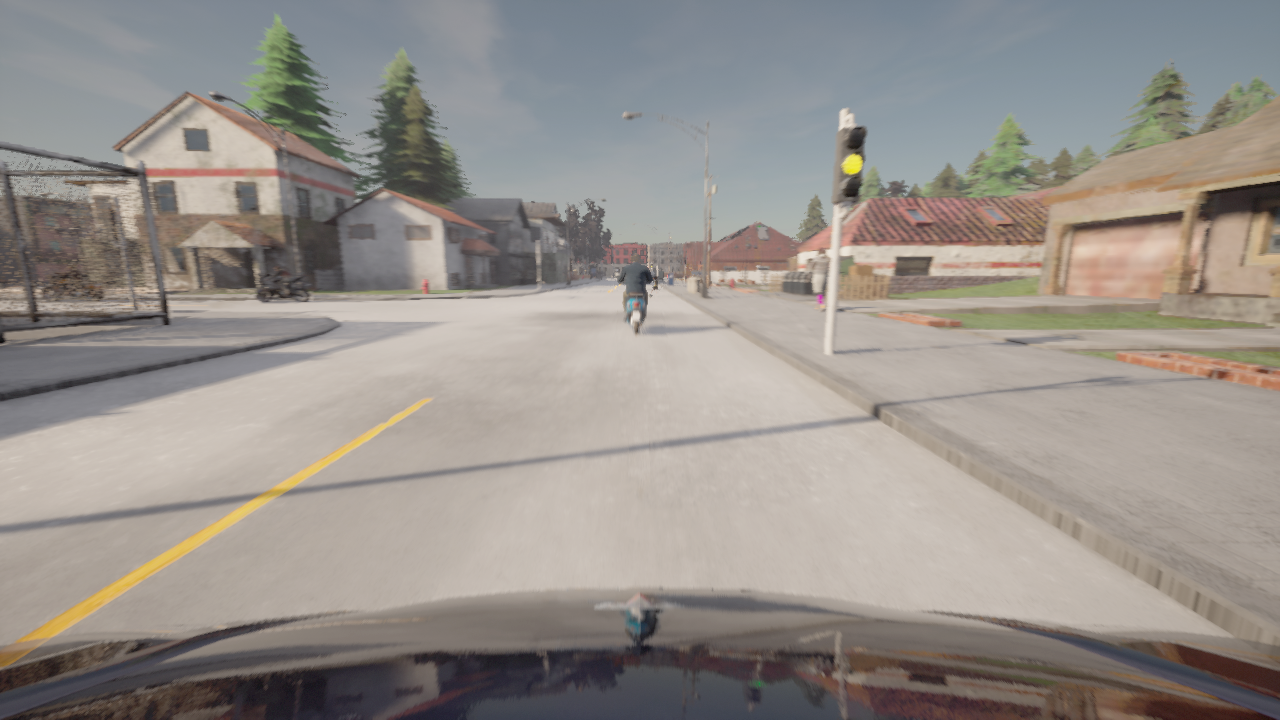cyclist: (0, 588, 1279, 719), (615, 271, 655, 334), (41, 271, 103, 301), (256, 273, 310, 302)
pedestrian: (806, 248, 830, 312), (648, 277, 658, 296)
